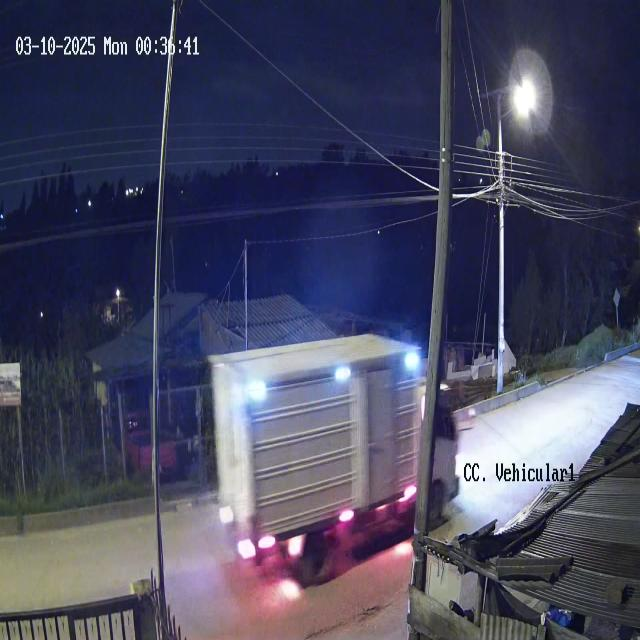TRUCK: (206, 330, 462, 569)
